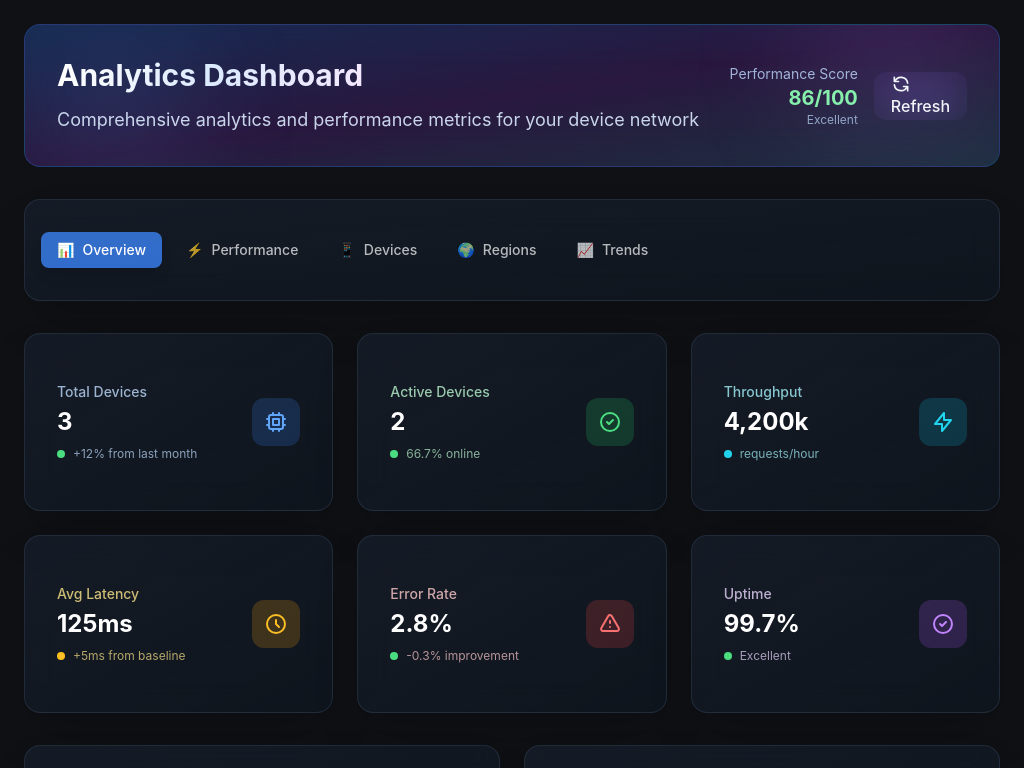
Scenario: Analytics - Refresh Functionality › should update device metrics after refresh
Expected: the text "3" is shown, [57,407,72,436]
Expected: the text "2" is shown, [390,407,405,436]
Click the button "Refresh". click: (920,96)
box: [874,72,967,120]
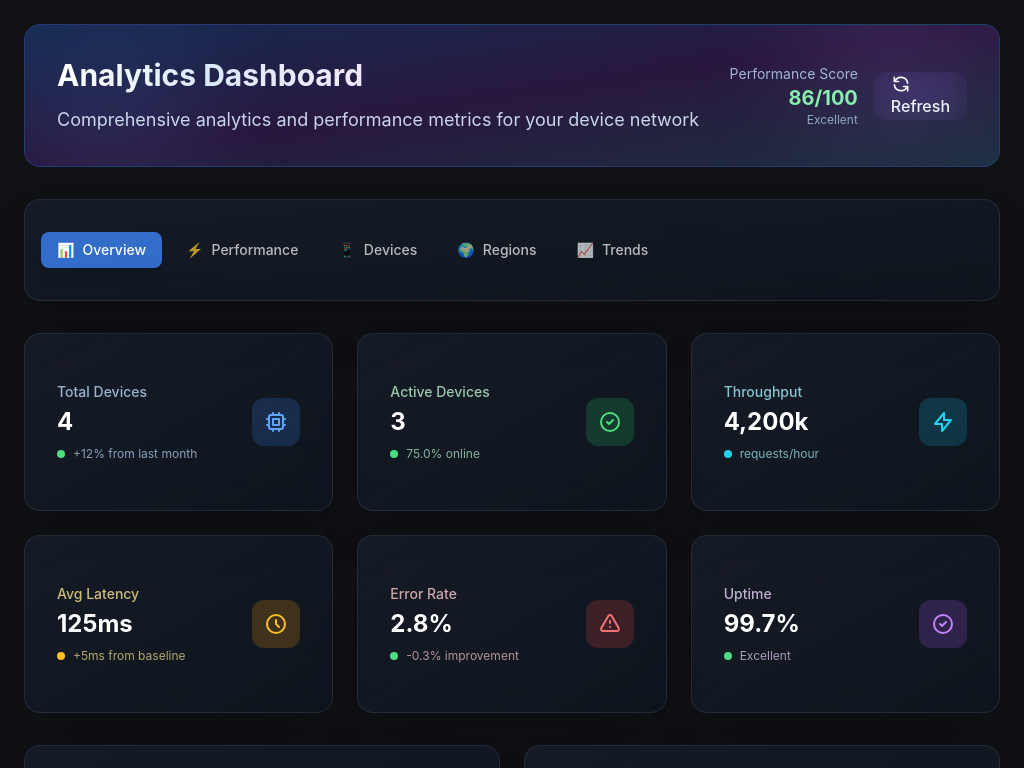
Now the text "4" is shown, box [57,407,73,436]
